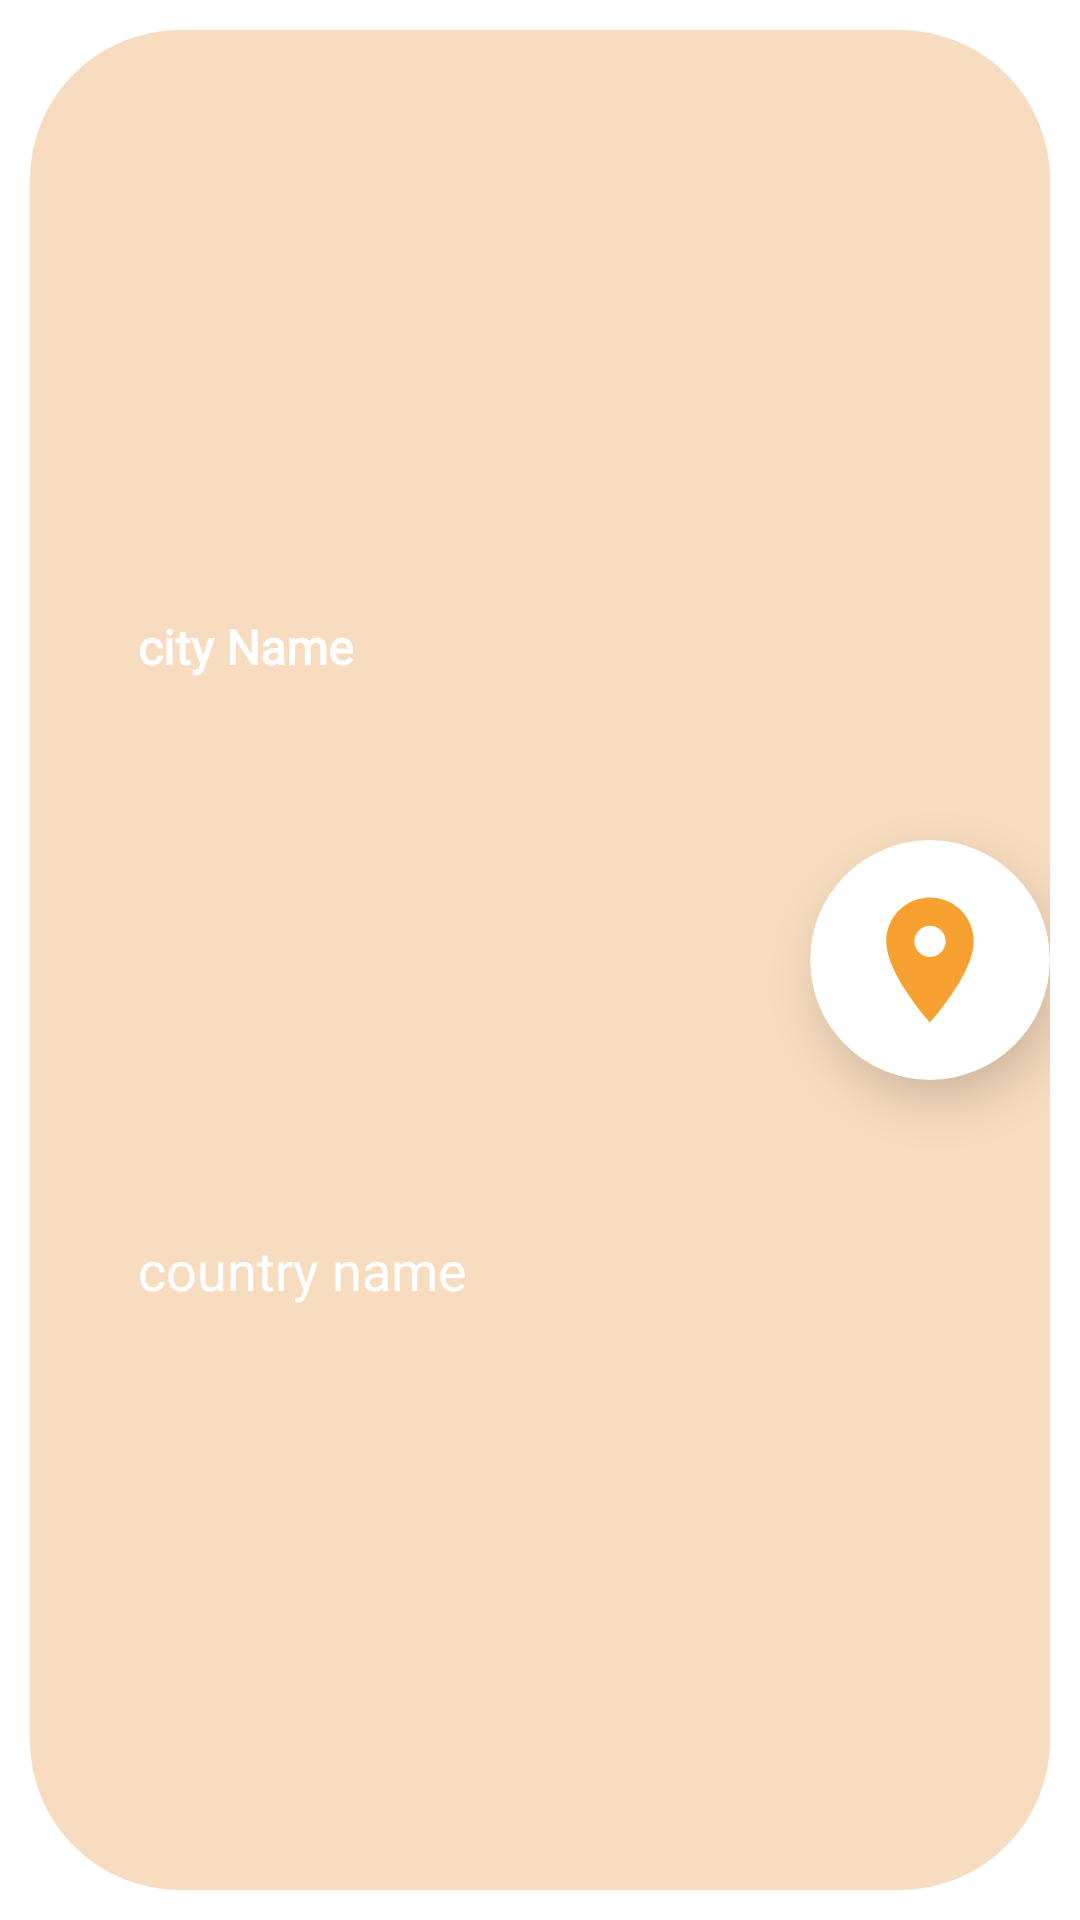

Icon bounding boxes for this 1080×1920 phone screenshot, format rect(x1, y1, x2, y2):
location: rect(886, 897, 974, 1023)
